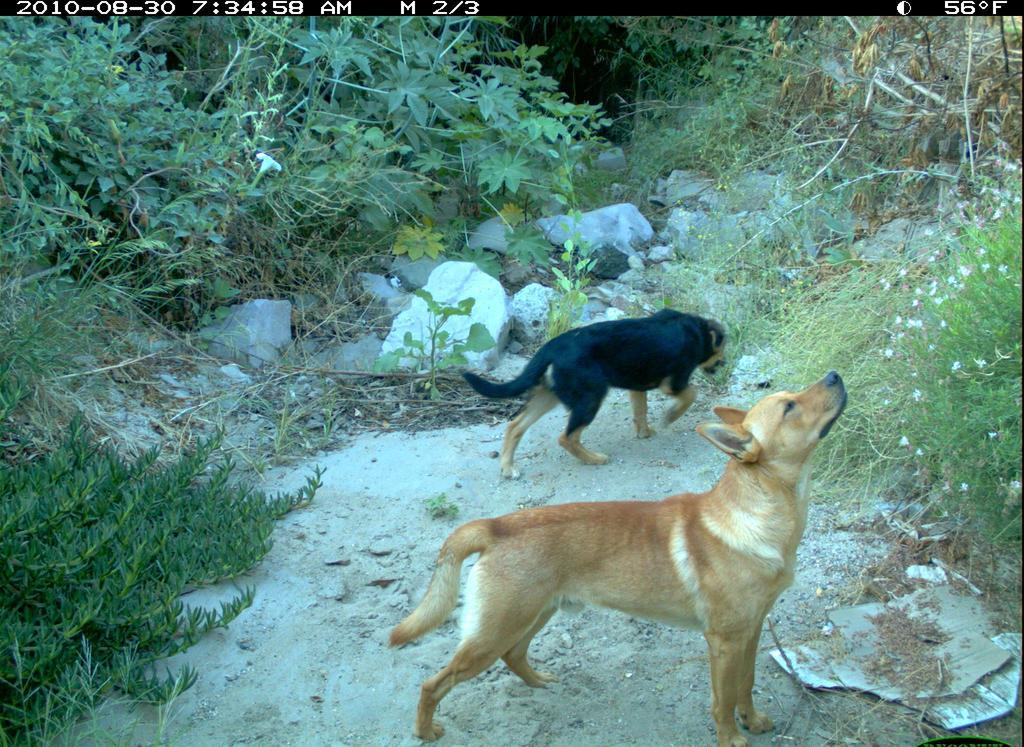dog: (383, 367, 857, 744), (463, 283, 742, 482)
